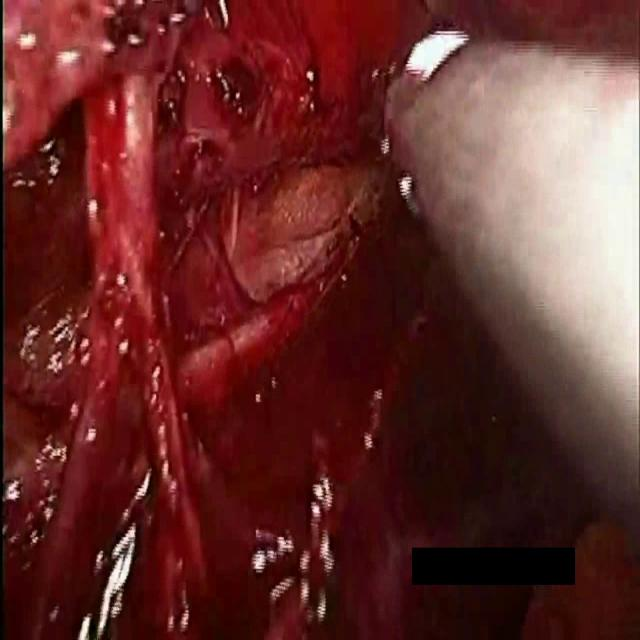surgical-area: (0, 0, 640, 639), (404, 531, 640, 639)
surgical-tool: (355, 23, 640, 556)
